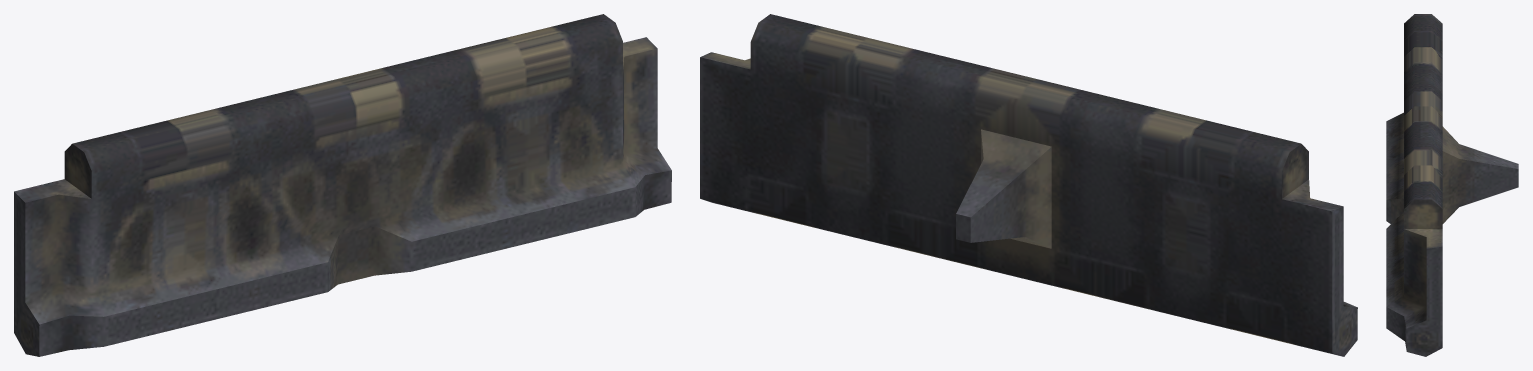
3 views of the same model, side by side, from view 1: azimuth 30°, elevation 25°; view 2: azimuth 150°, elevation 25°; view 3: azimuth 270°, elevation 25° (orthographic). The views are drawn at different scales.
Parts seen in each view (by area): view 1: set_0_group_0; view 2: set_0_group_0; view 3: set_0_group_0.
Boxes of the visible parts, bbox=[...] form: set_0_group_0: bbox=[14, 14, 671, 356]; set_0_group_0: bbox=[700, 14, 1357, 356]; set_0_group_0: bbox=[1386, 14, 1518, 356].
Size of the model in its own units: 0.7083 by 0.209 by 0.1793.
1 material, 1 textured.
